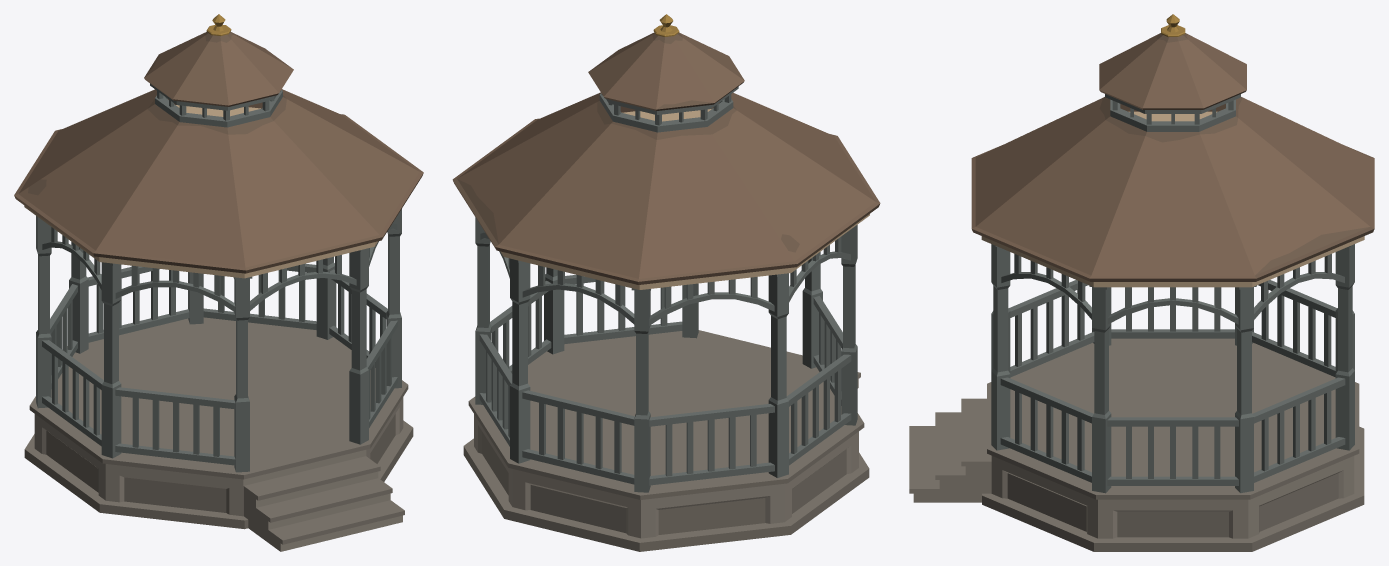
The model's file is SM_Bldg_City_Gazebo.fbx.
3 renders of one model, left to right at view 1: azimuth 30°, elevation 25°; view 2: azimuth 150°, elevation 25°; view 3: azimuth 270°, elevation 25°, orthographic. The views are drawn at different scales.
Parts seen in each view (by area): view 1: SM_Bldg_City_Gazebo; view 2: SM_Bldg_City_Gazebo; view 3: SM_Bldg_City_Gazebo.
Part boxes in pixels (x1,y1,x2,y2): SM_Bldg_City_Gazebo: (14, 14, 423, 551); SM_Bldg_City_Gazebo: (452, 14, 880, 551); SM_Bldg_City_Gazebo: (909, 14, 1374, 551).
Bounding box in the file's own units: 400 × 500 × 462.
